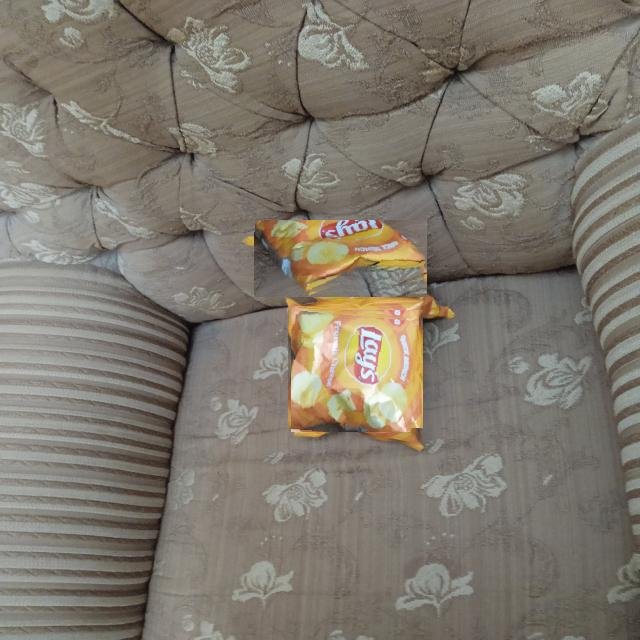Plastic: (291, 306, 419, 432), (254, 220, 427, 297)
